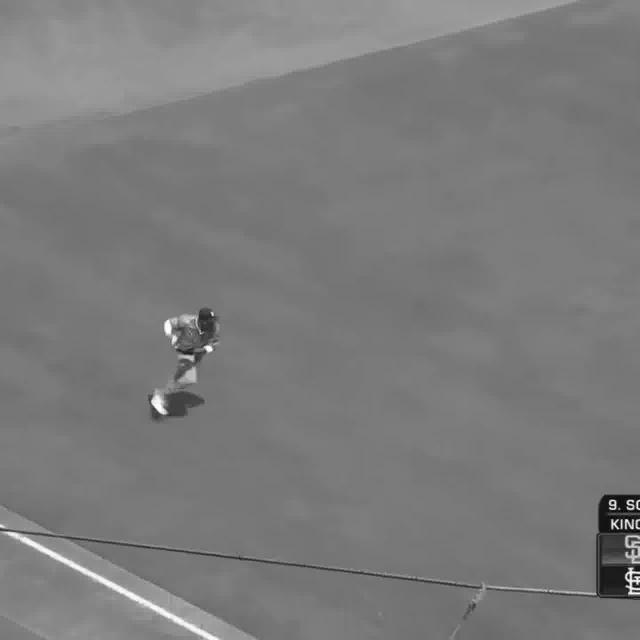baseball_glove: (176, 343, 194, 355)
shoe: (151, 396, 171, 420)
